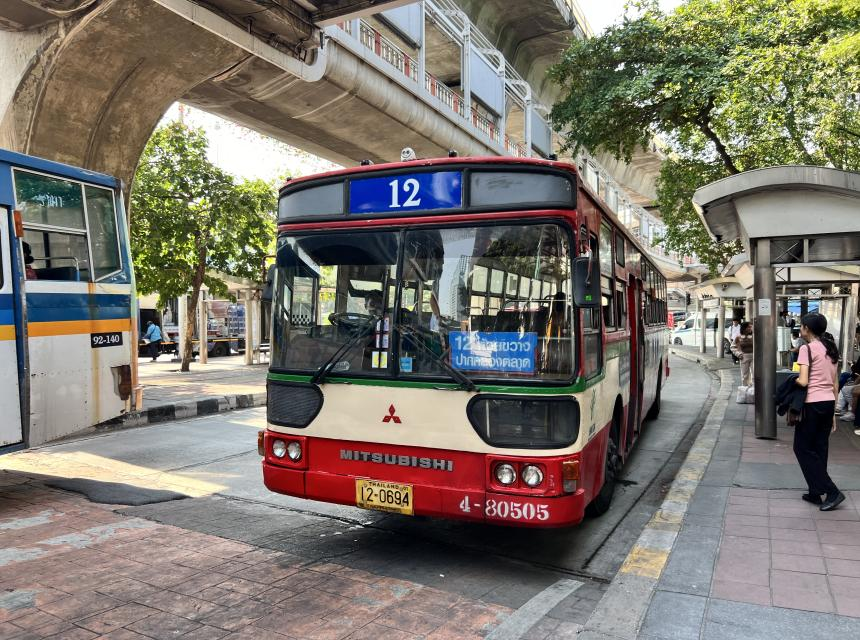BMTA-bus: (257, 156, 669, 533)
Bus Line Number: (343, 170, 468, 216)
Bus Side Number: (456, 489, 556, 526)
Destination Sign: (445, 329, 545, 382)
